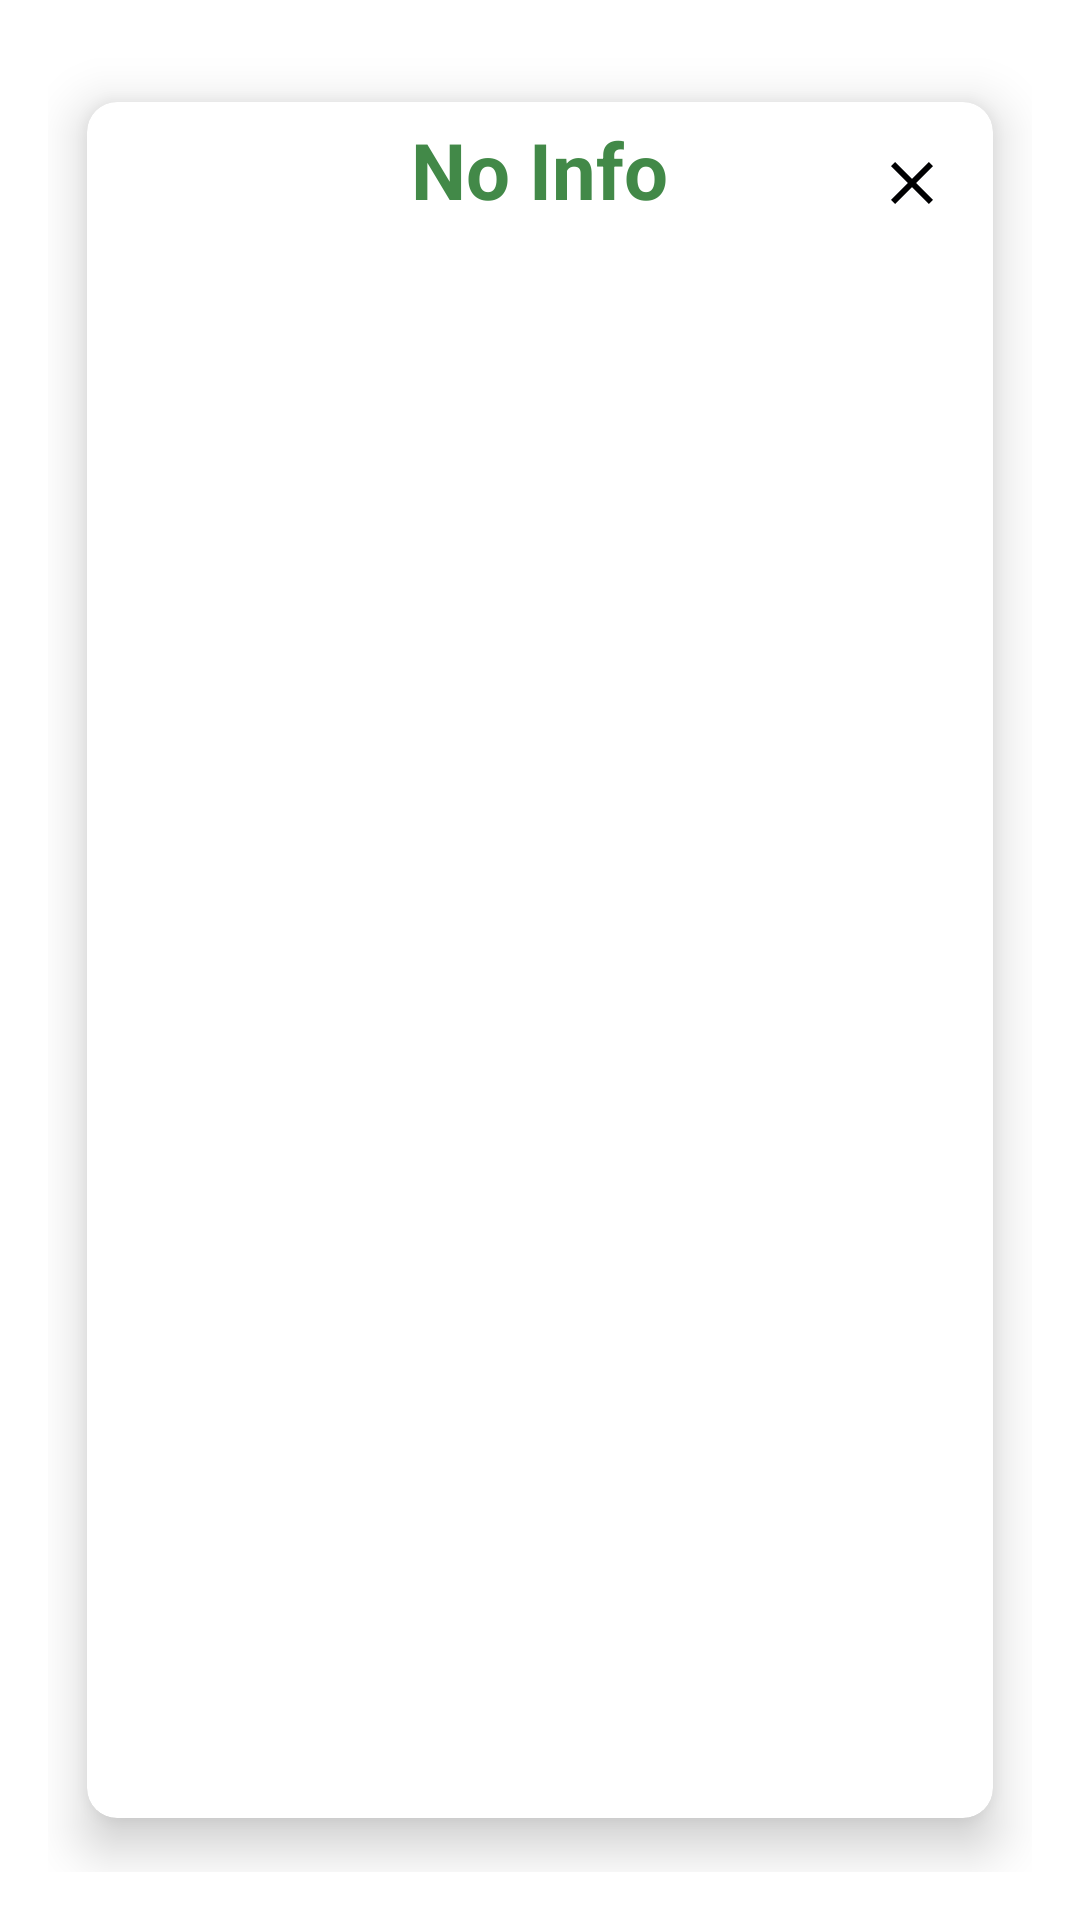

Icons on this 1080w x 1920h Android screen, each with its box as [x1, y1, x2, y2]:
exit: [891, 162, 933, 204]
